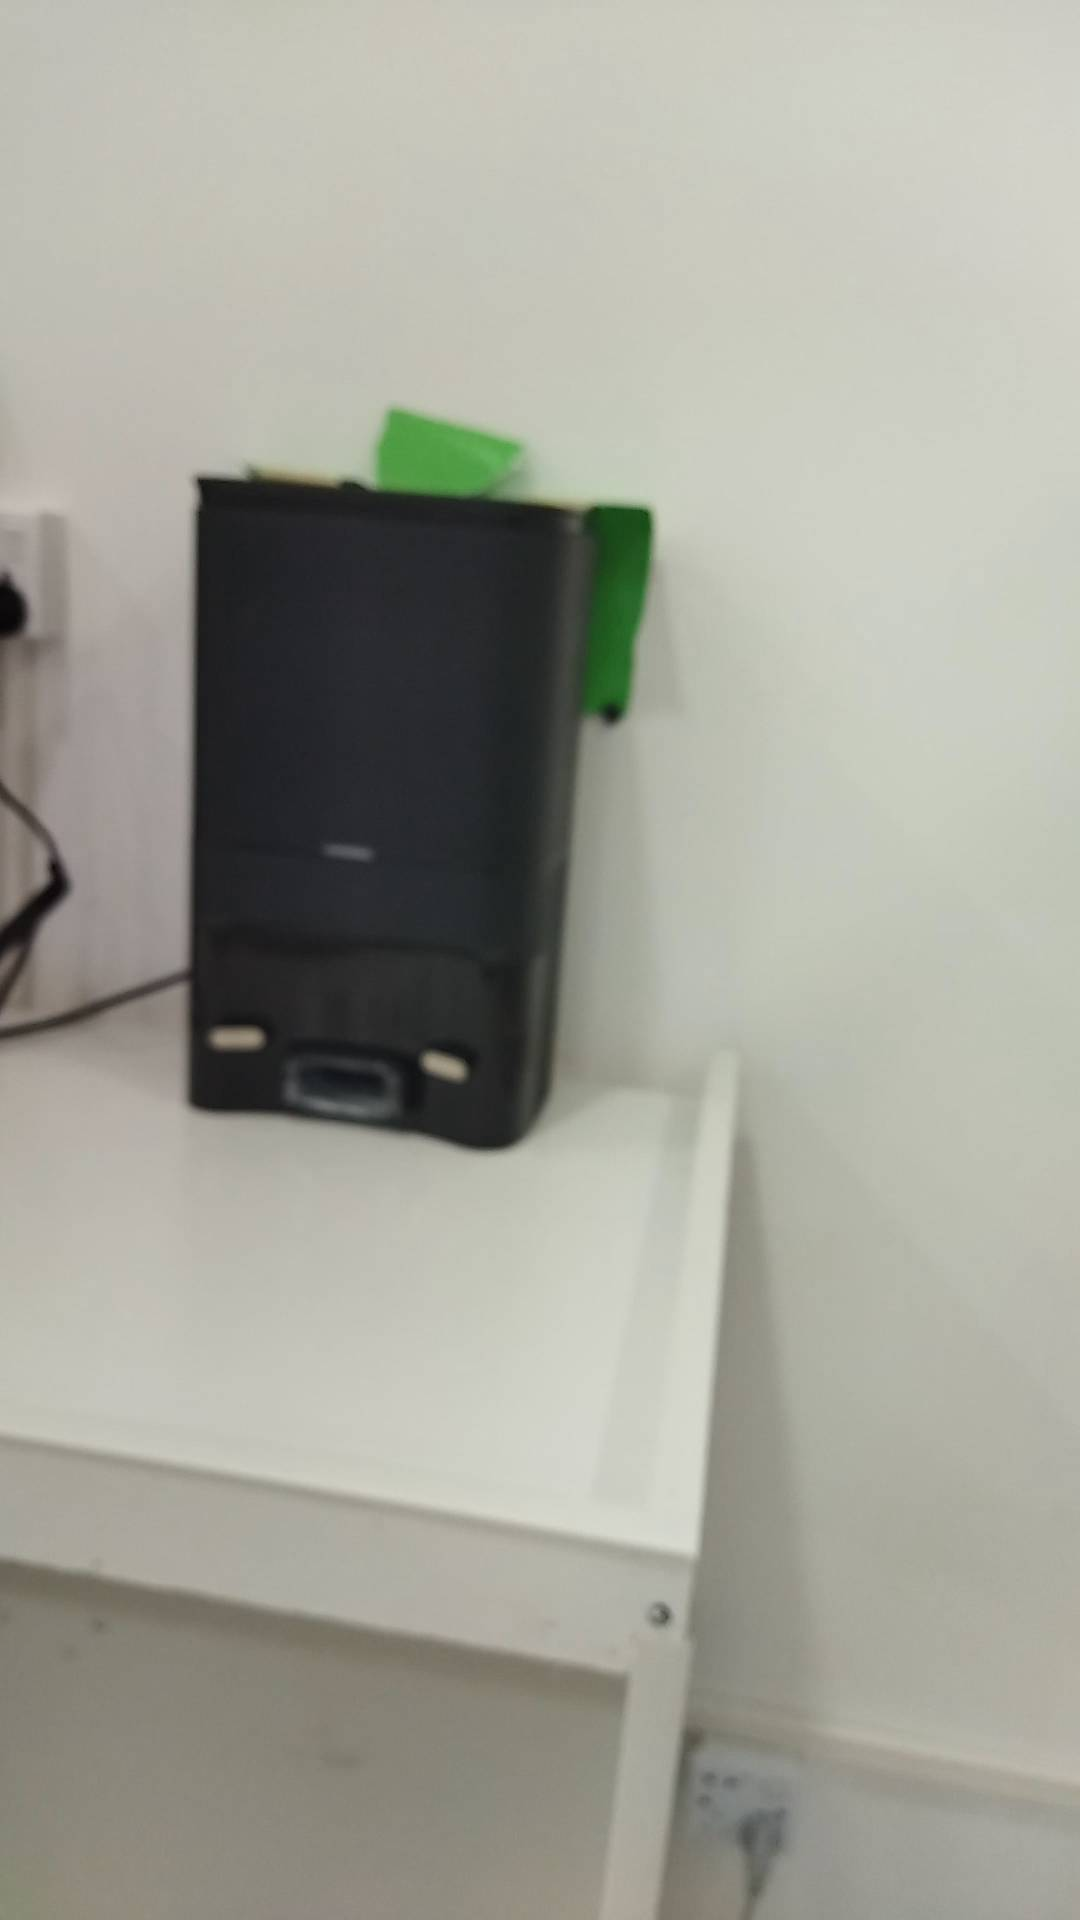dust collecting barrel: (185, 473, 597, 1150)
